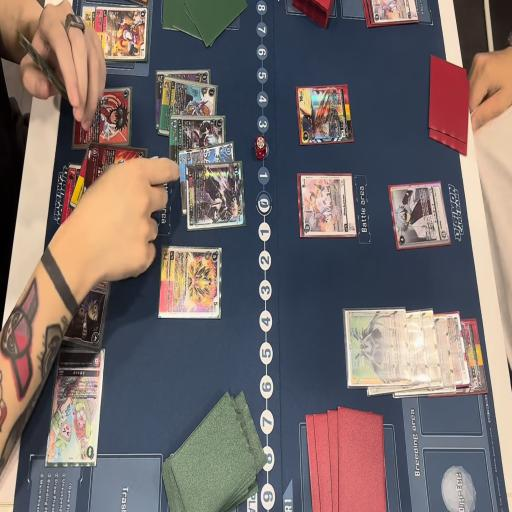card: (46, 343, 106, 470), (344, 305, 406, 393), (158, 245, 222, 323), (84, 138, 148, 209), (186, 160, 245, 236), (178, 141, 234, 220), (72, 84, 136, 153), (390, 175, 448, 251), (57, 274, 113, 348), (297, 172, 353, 244), (154, 68, 211, 132), (158, 80, 218, 140), (297, 84, 354, 145), (94, 8, 152, 65), (168, 116, 226, 171), (456, 312, 490, 391), (431, 310, 458, 396), (420, 308, 444, 399), (402, 305, 426, 392), (446, 311, 471, 394), (60, 160, 84, 236), (69, 147, 95, 214), (363, 0, 420, 28), (80, 3, 96, 34)
